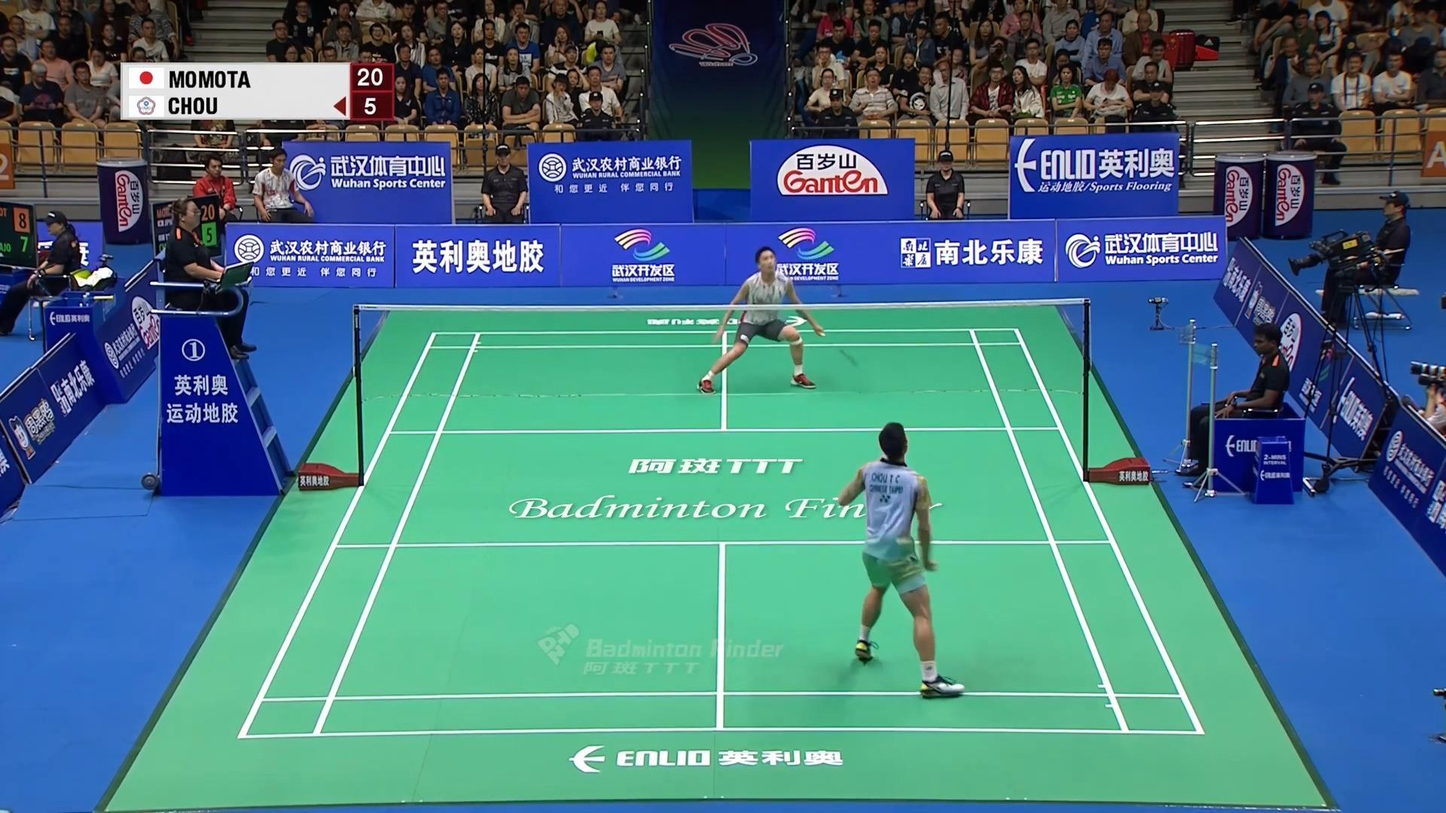player: (837, 422, 962, 696), (697, 246, 824, 394)
